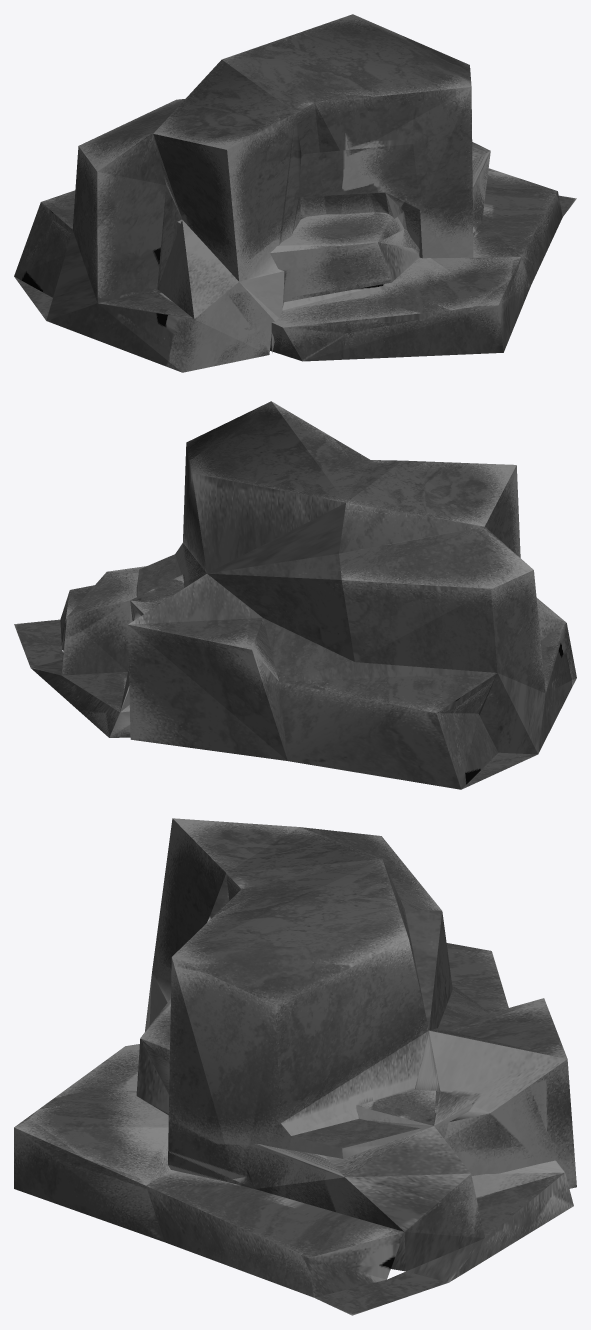
File: ROCK C LOD.fbx
3 renders of one model, top to bottom at view 1: azimuth 30°, elevation 25°; view 2: azimuth 150°, elevation 25°; view 3: azimuth 270°, elevation 25°, orthographic. The views are drawn at different scales.
Parts seen in each view (by area): view 1: ROCK C LOD; view 2: ROCK C LOD; view 3: ROCK C LOD.
Boxes of the visible parts, <box> form: ROCK C LOD: <box>14,14,576,372</box>; ROCK C LOD: <box>14,401,576,789</box>; ROCK C LOD: <box>14,818,576,1315</box>.
Bounding box in the file's own units: 2.37 × 0.9429 × 1.83.
